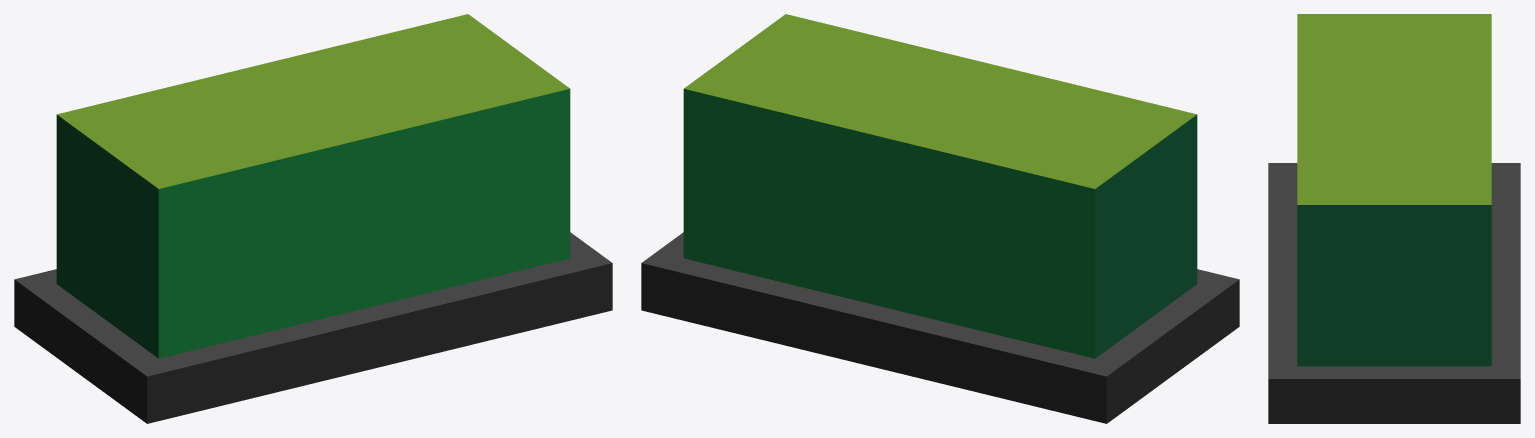
The model's file is TB_CITY_Env_Bush_A.FBX.
The picture shows the model from 3 angles, left to right: view 1: azimuth 30°, elevation 25°; view 2: azimuth 150°, elevation 25°; view 3: azimuth 270°, elevation 25°; orthographic projection. The views are drawn at different scales.
Parts seen in each view (by area): view 1: TB_CITY_Env_Bush_A; view 2: TB_CITY_Env_Bush_A; view 3: TB_CITY_Env_Bush_A.
Boxes of the visible parts, x1,y1,x2,y2 form: TB_CITY_Env_Bush_A: [14, 14, 612, 423]; TB_CITY_Env_Bush_A: [641, 14, 1239, 423]; TB_CITY_Env_Bush_A: [1268, 14, 1520, 423].
Size of the model in its own units: 3.1 by 1.38 by 1.53.
